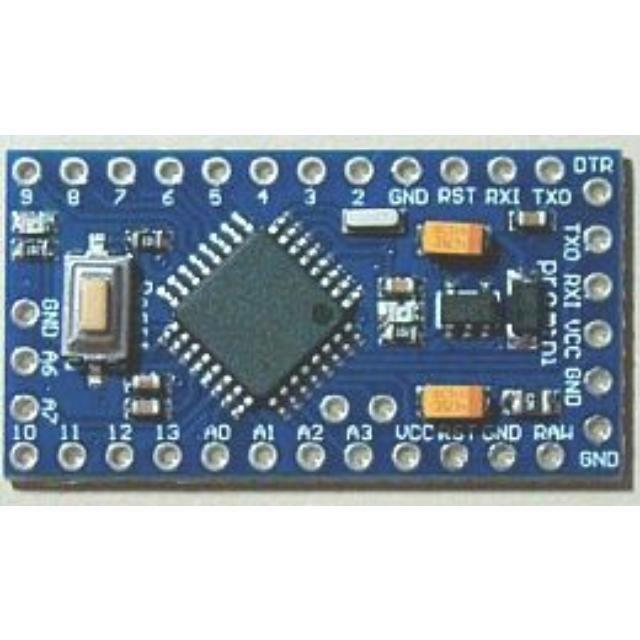Arduino-ProMini: (1, 141, 638, 491)
